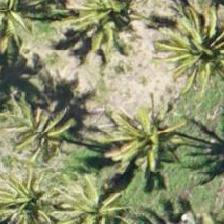coconut_tree: (106, 94, 196, 184), (3, 73, 93, 163), (151, 7, 223, 97), (56, 0, 146, 57), (35, 169, 125, 223), (0, 168, 70, 223), (0, 0, 50, 51)
